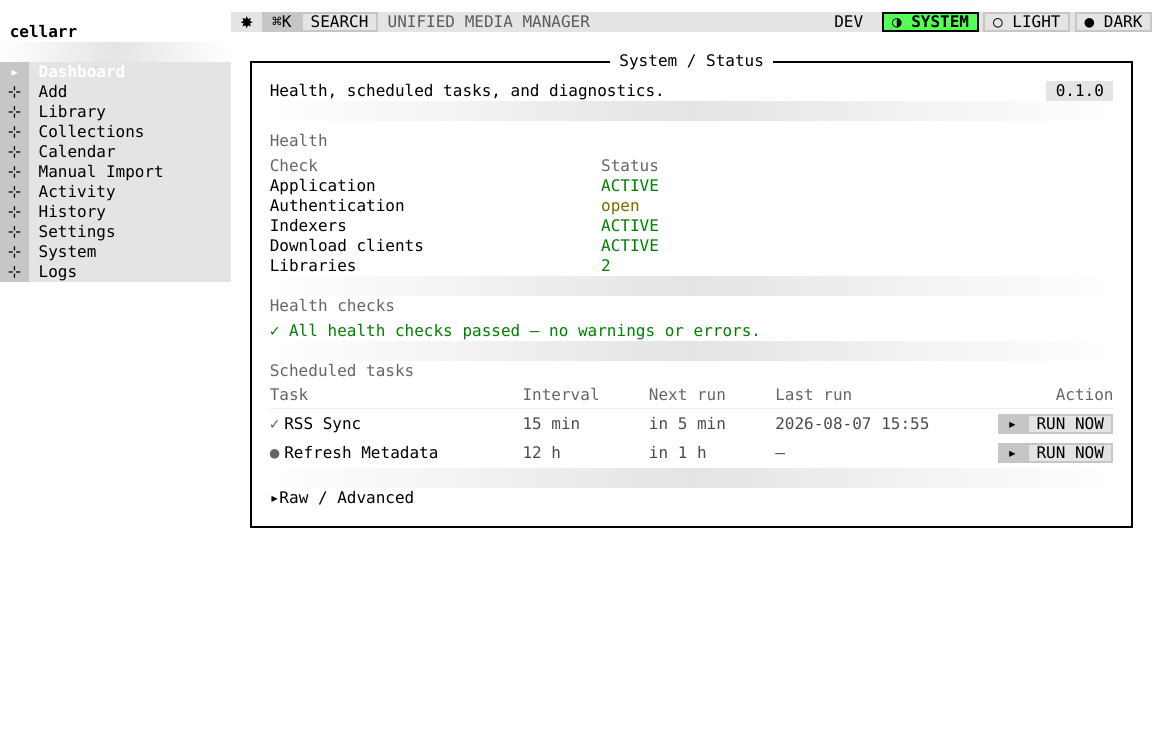
System / Status screen › 'Run now' POSTs the task command and confirms via toast
Expected: the text "Run now" next to "2026-08-07 15:55" is shown, top-left (1036, 414), bottom-right (1104, 432)
Click the text "Run now" next to "2026-08-07 15:55" at {"x": 1070, "y": 424}, box top-left (1027, 414), bottom-right (1114, 434)
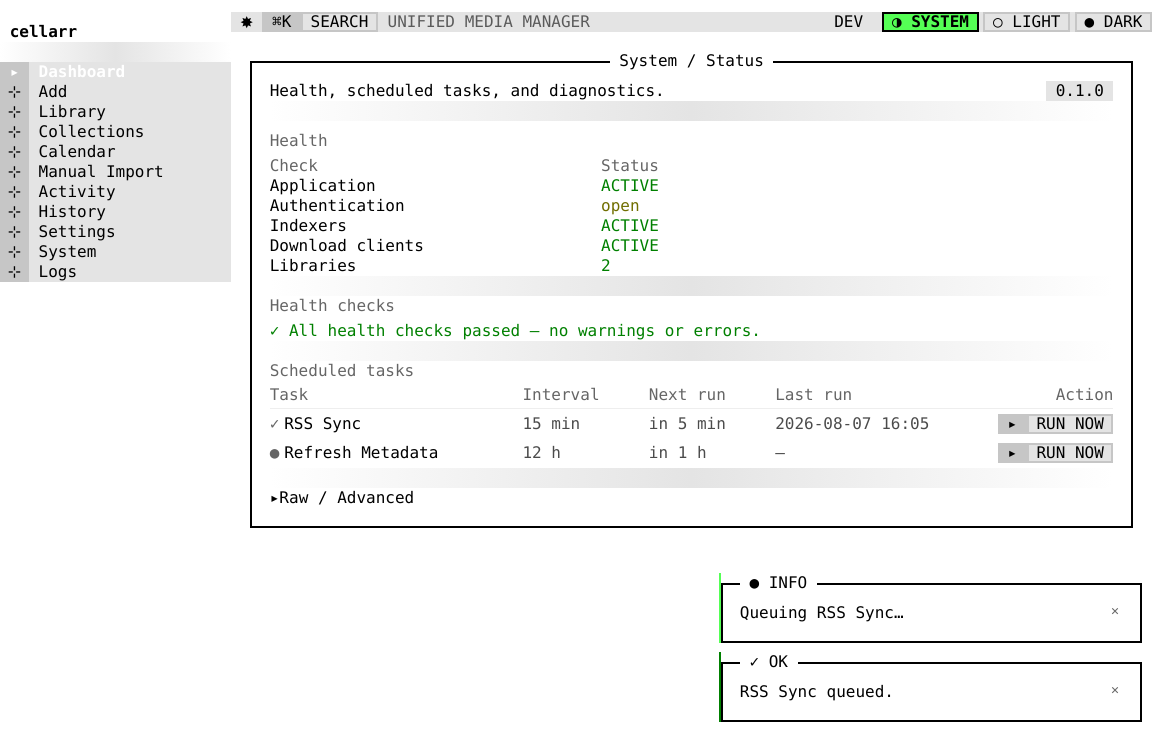
Now the text "RSS Sync queued." is shown, box top-left (740, 682), bottom-right (894, 701)
